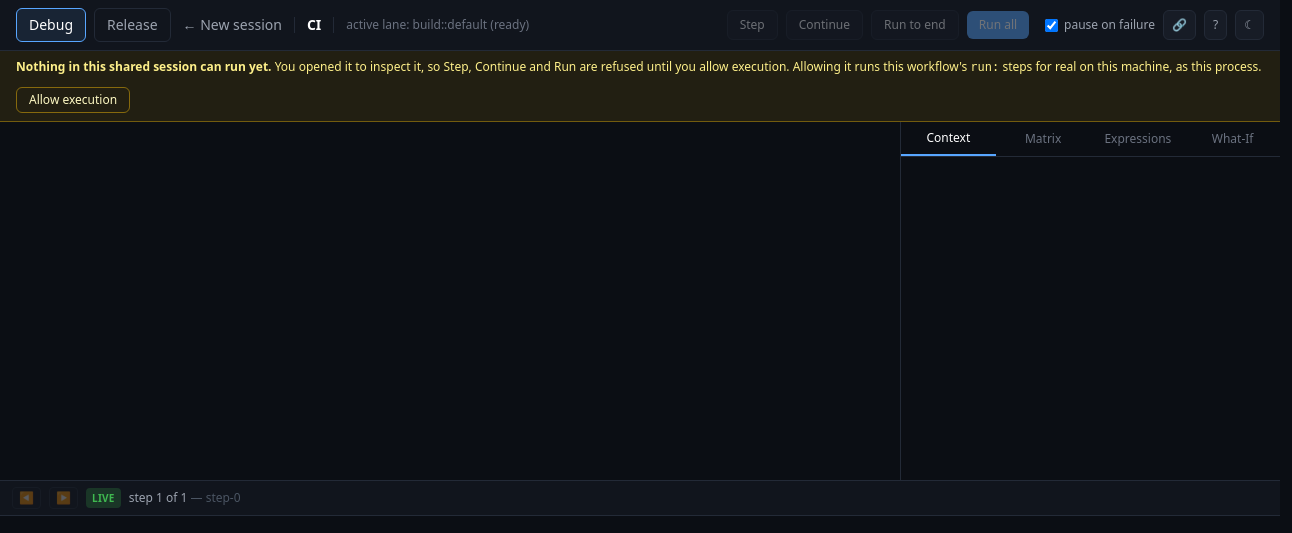
DebuggerApp consent for a shared session › offers a way out of the inspect-only state
Expected: the element with test id "consent-banner" shows "Nothing in this shared session can run yet", [16,58,272,75]
Click the button with test id "allow-execution": click(73, 100) [16,87,130,113]
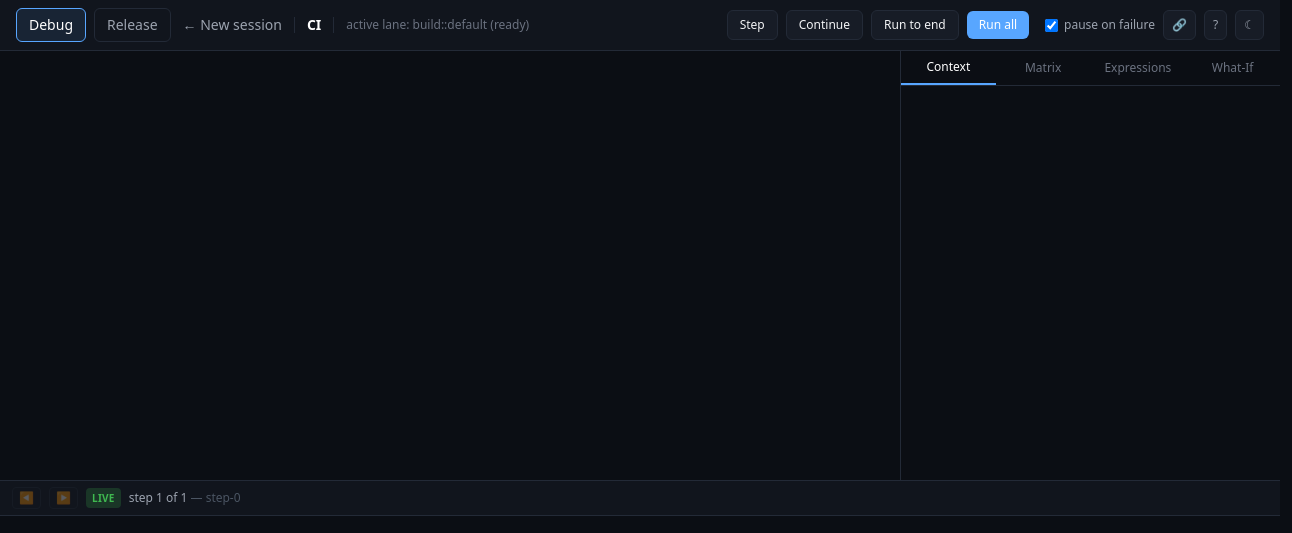
Now the element with test id "consent-banner" is gone
